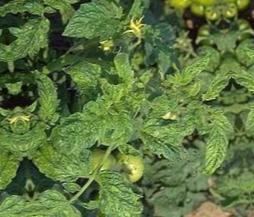Tomato leaf yellow virus: (46, 97, 124, 158), (54, 0, 135, 51), (60, 47, 126, 108), (88, 164, 149, 217), (22, 64, 69, 130), (192, 112, 235, 181), (4, 14, 55, 62), (30, 184, 88, 217)
